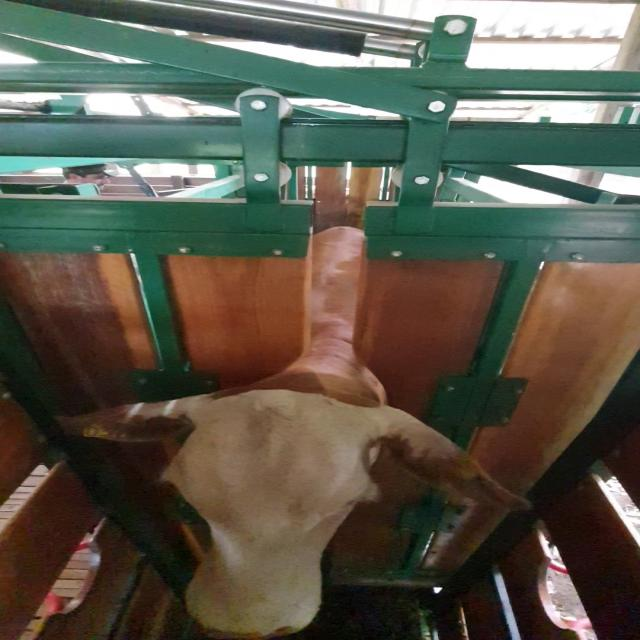cowFace: (168, 402, 364, 640)
